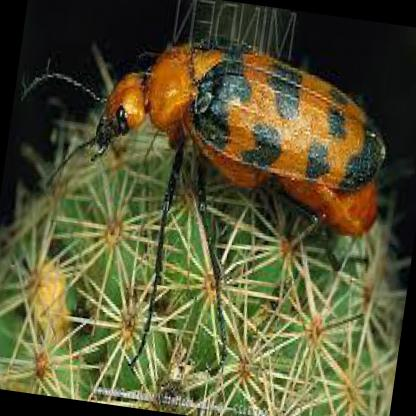blister beetle: (89, 37, 385, 288)
